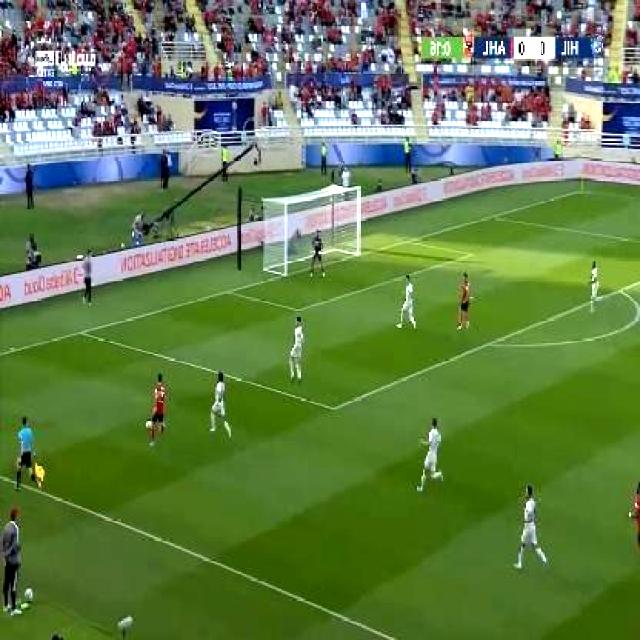bigarea_bottom_inner: (323, 392, 346, 422)
bigarea_bottom_outter: (72, 320, 94, 345)
bigarea_top_outter: (486, 208, 503, 223)
bottom_arc_area_intersection: (480, 331, 500, 355)
corner: (576, 182, 592, 196)
smallarea_bottom_inner: (289, 300, 306, 318)
smallarea_bottom_outter: (222, 280, 240, 302)
smallarea_top_inner: (463, 245, 483, 263)
smallarea_top_outter: (400, 232, 418, 250)
top_arc_area_intersection: (614, 280, 629, 298)
